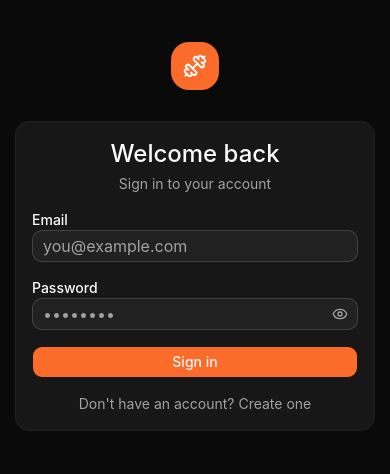
Scenario: shows generic error when response has no detail
In the field labelled "Email": (195, 246) top-left (32, 230), bottom-right (358, 262), type "a@b.com"
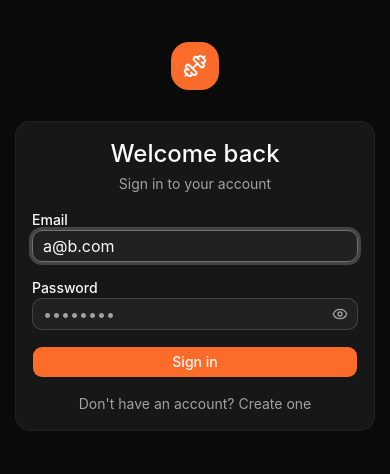
In the password field labelled "Password": (195, 314) top-left (32, 298), bottom-right (358, 330), type "pass"
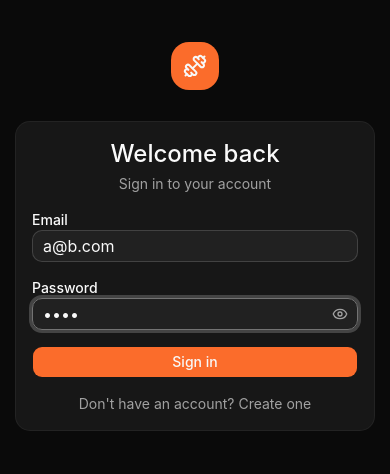
Click the button "Sign in": (195, 362) top-left (32, 346), bottom-right (358, 378)
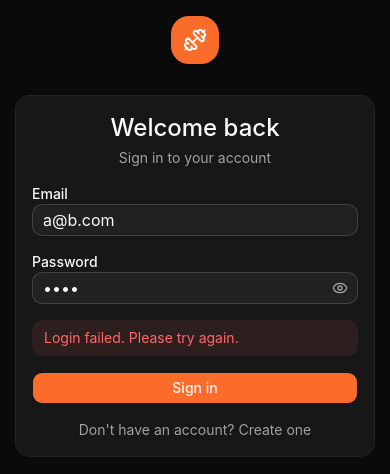
Expected: the text "Login failed. Please try again." is shown, top-left (32, 320), bottom-right (358, 356)
